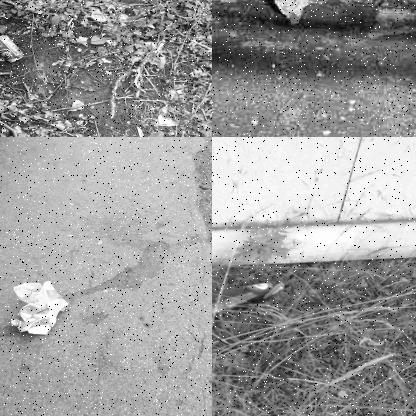glass: (212, 274, 297, 327)
metal: (0, 30, 24, 68)
plastic: (8, 278, 72, 338), (269, 0, 309, 24)
